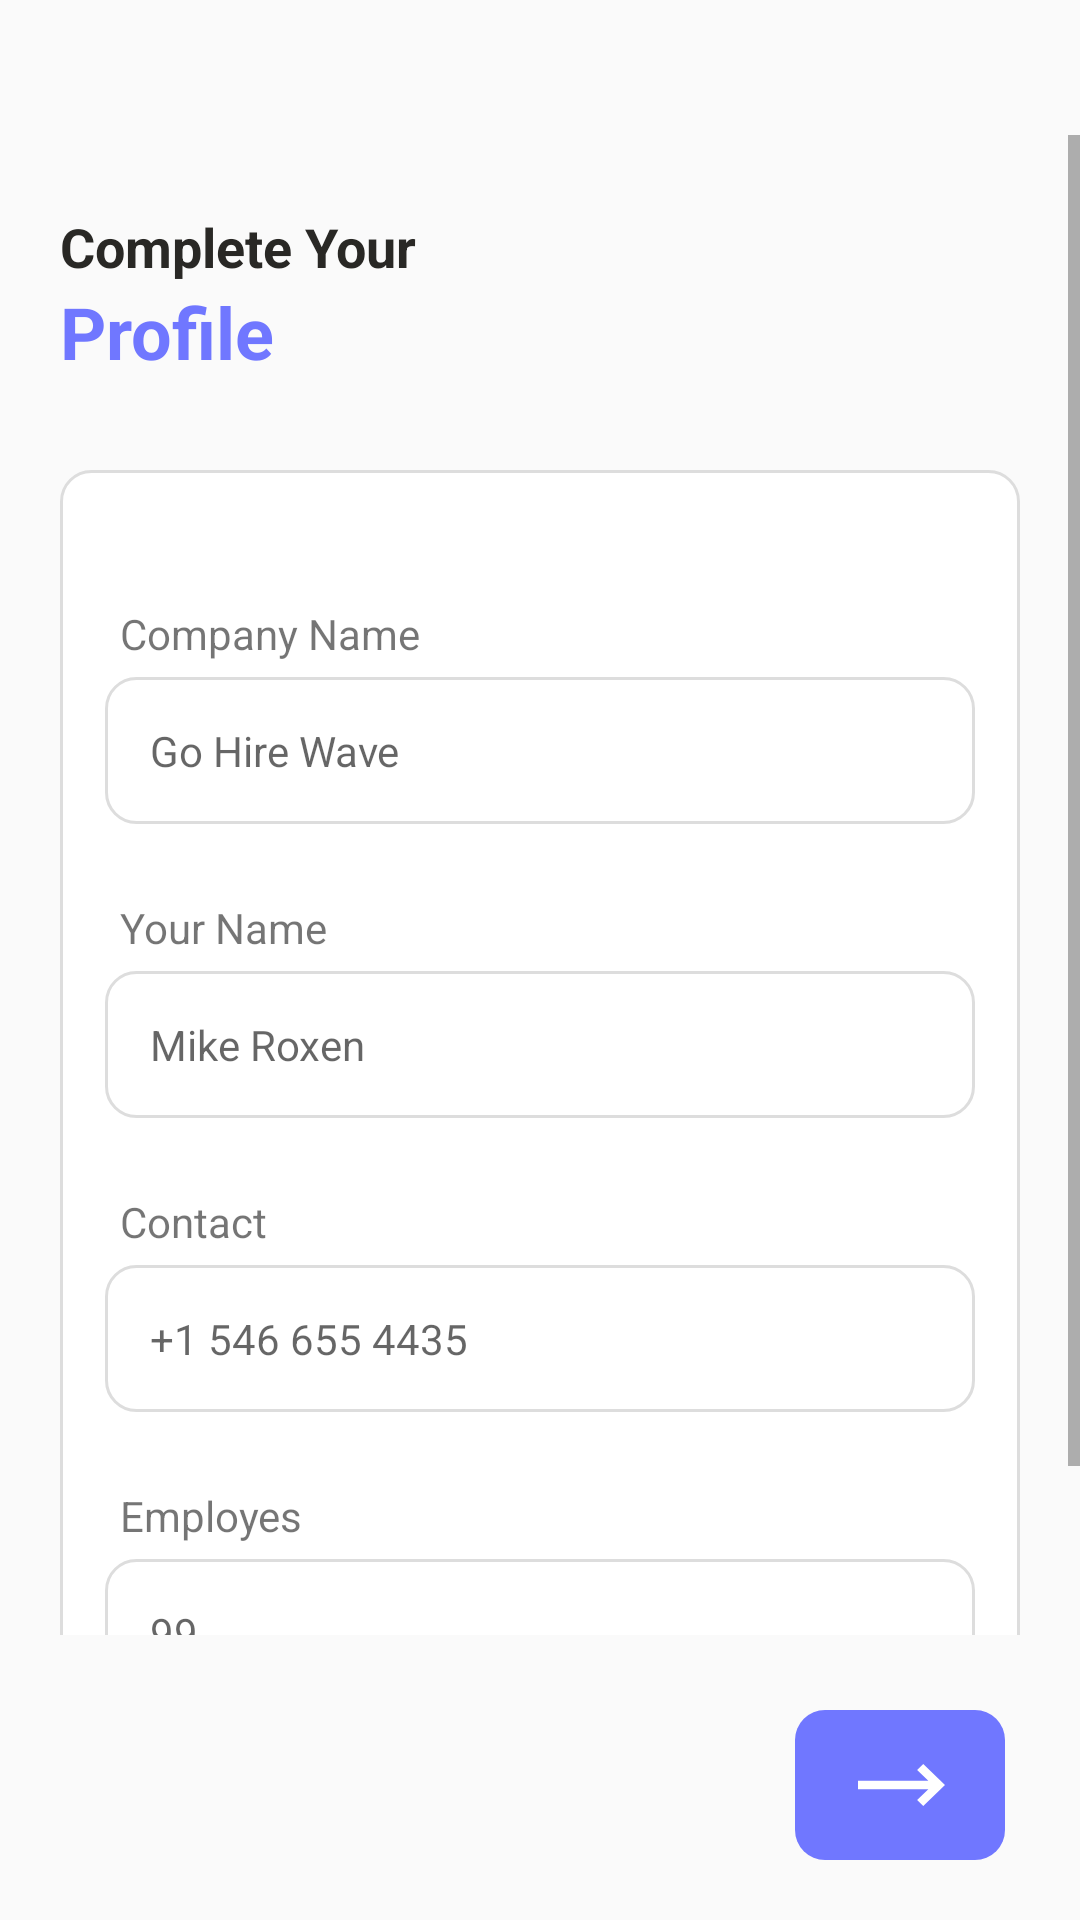

Icon click points for this 1080*1920 phone screenshot, format (x,y):
next arrow: (900,1785)
